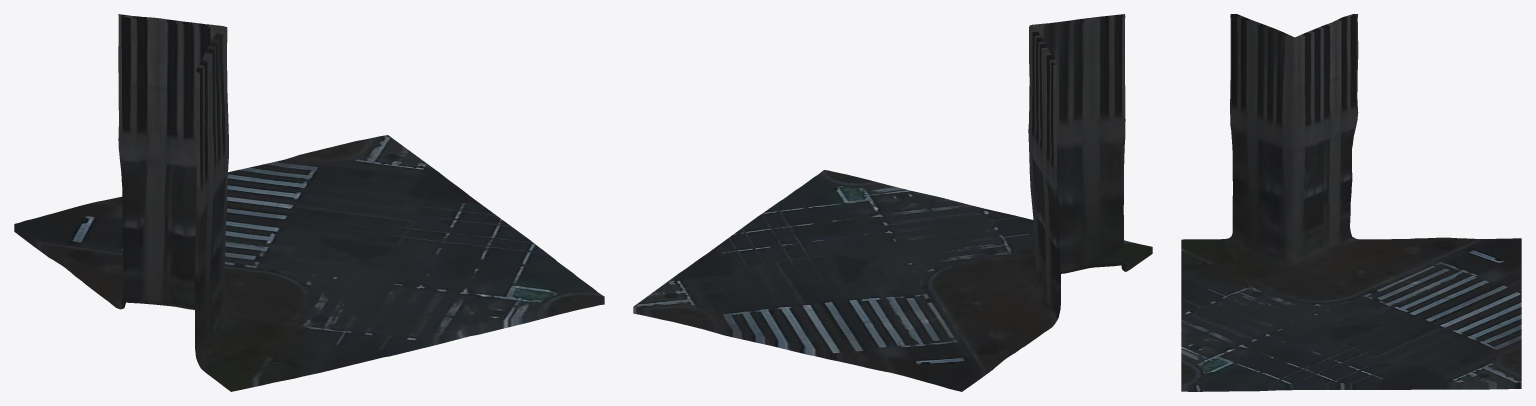
Rendered from z20-167774-405237-h0-yup-uvflip-v3-world.glb.
The picture shows the model from 3 angles, left to right: view 1: azimuth 30°, elevation 25°; view 2: azimuth 150°, elevation 25°; view 3: azimuth 270°, elevation 25°; orthographic projection. The views are drawn at different scales.
Bounding box in the file's own units: 30.16 × 23.12 × 30.32.
1 material, 1 textured.
